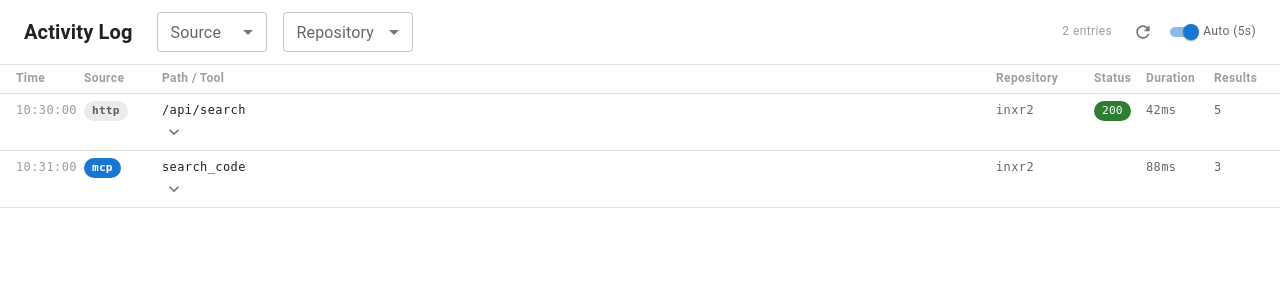
Test: Activity › expands params row on click
Check: the text "/api/search" is shown, box x1=162 y1=103 x2=246 y2=117
Click the button named "Expand params" below "/api/search": (174, 132) x1=162 y1=120 x2=186 y2=144
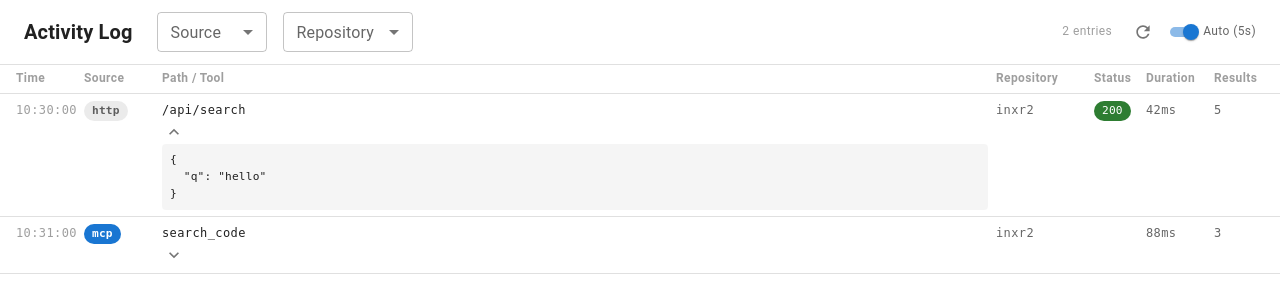
Check: the text "{ \"q\": \"hello\" }" is shown, box x1=162 y1=144 x2=988 y2=210
